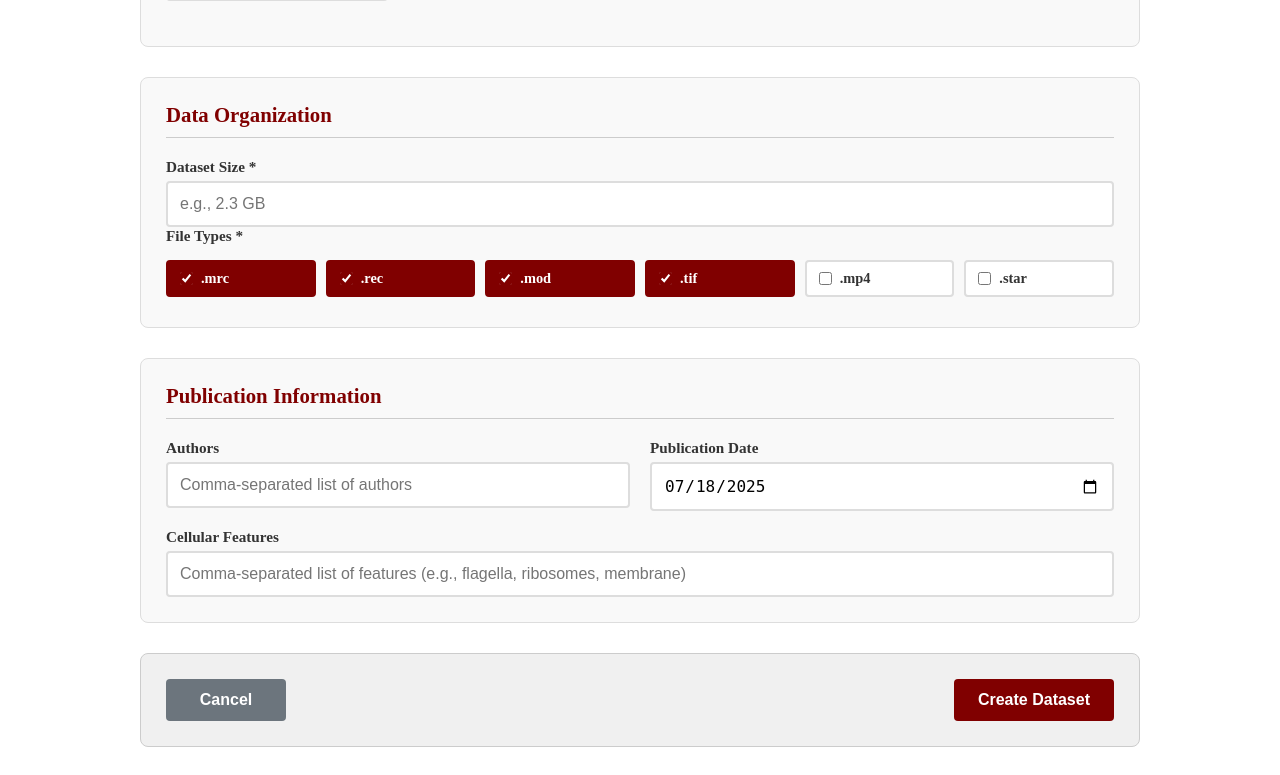
Test case: AddDatasetForm › Form Validation › should show required field errors on empty submission
(page scrolled)
Click the button "Create Dataset".
click(1034, 700)  # box [954,679,1114,721]
(page scrolled)
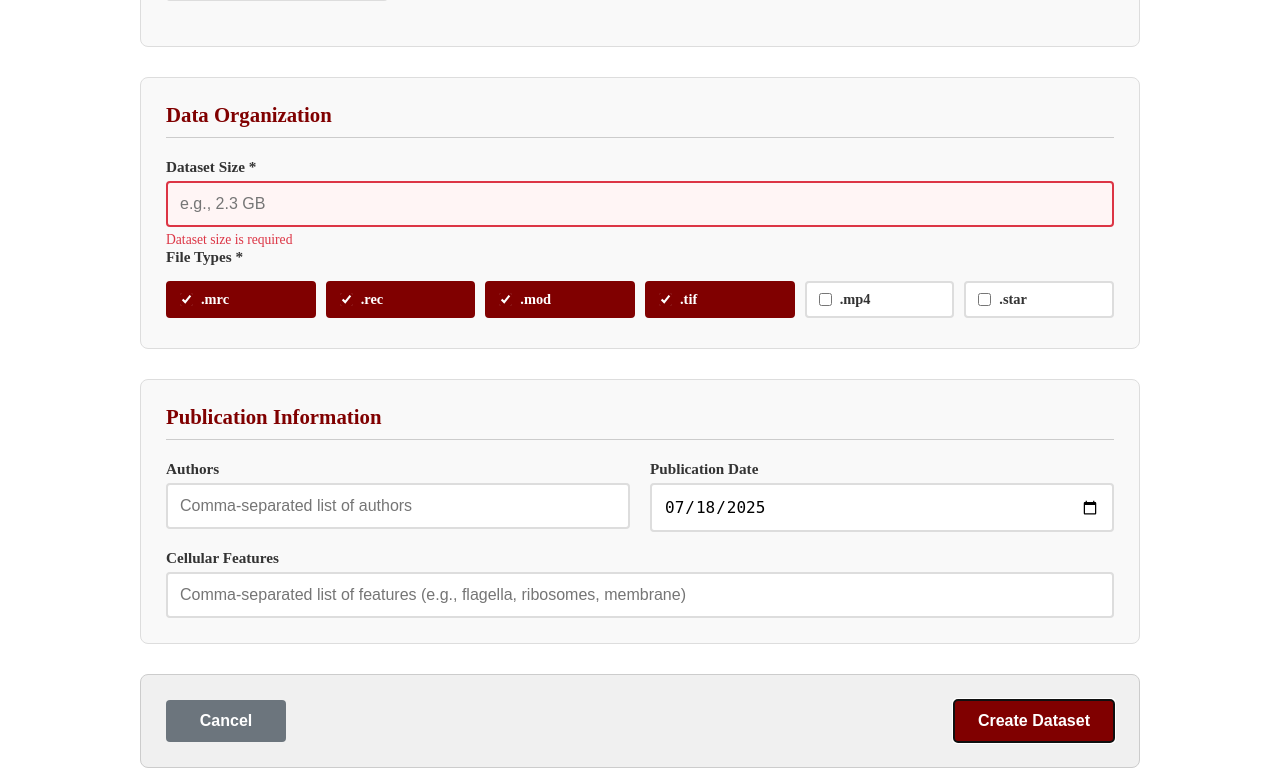
Expected: the text "Dataset size is required" is shown, [166,232,292,247]
